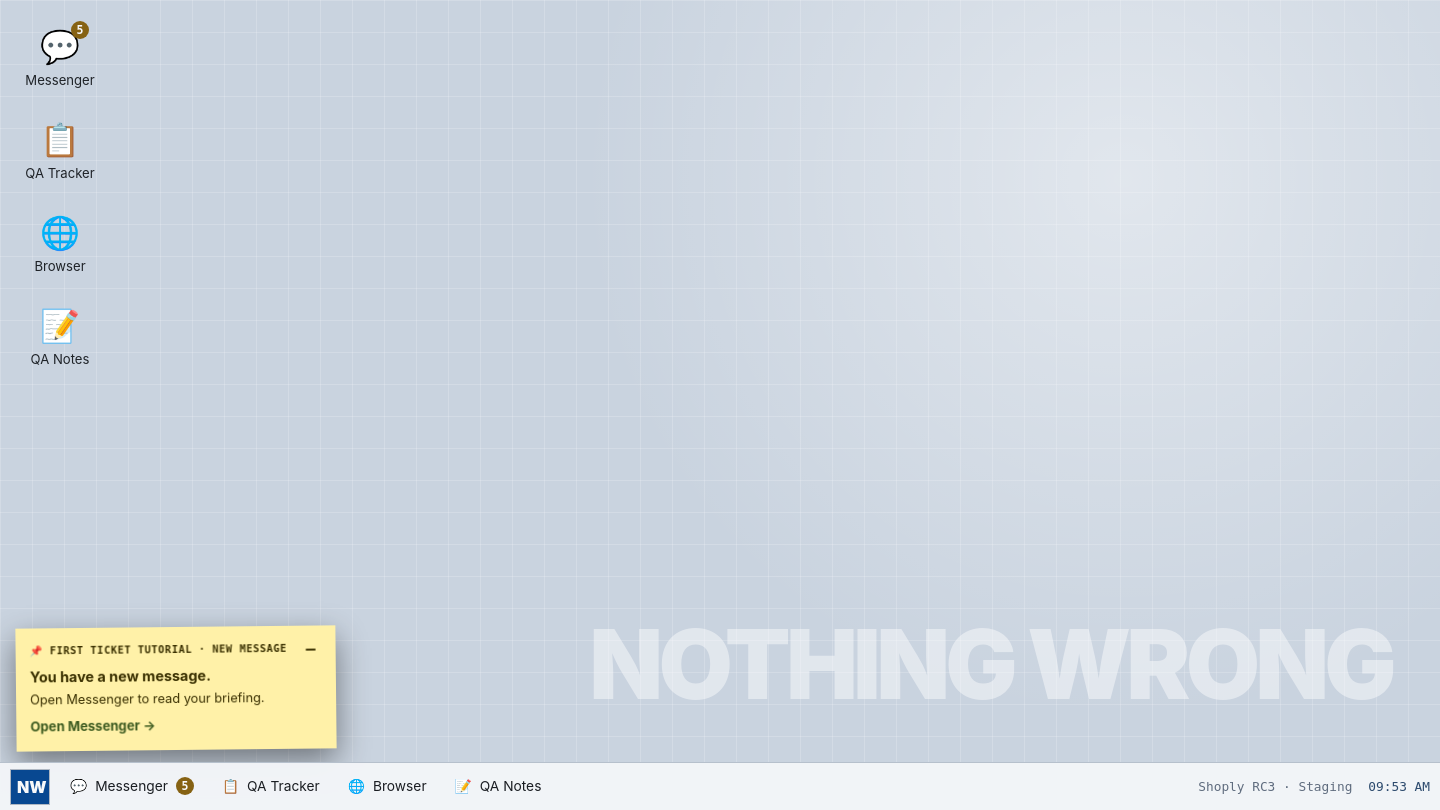
it: QA workstation desktop › opens typed addresses, intranet docs, and unknown hosts in the Browser
Click the 1st button "🌐 Browser" at x=60, y=244, box [16,202,104,285]
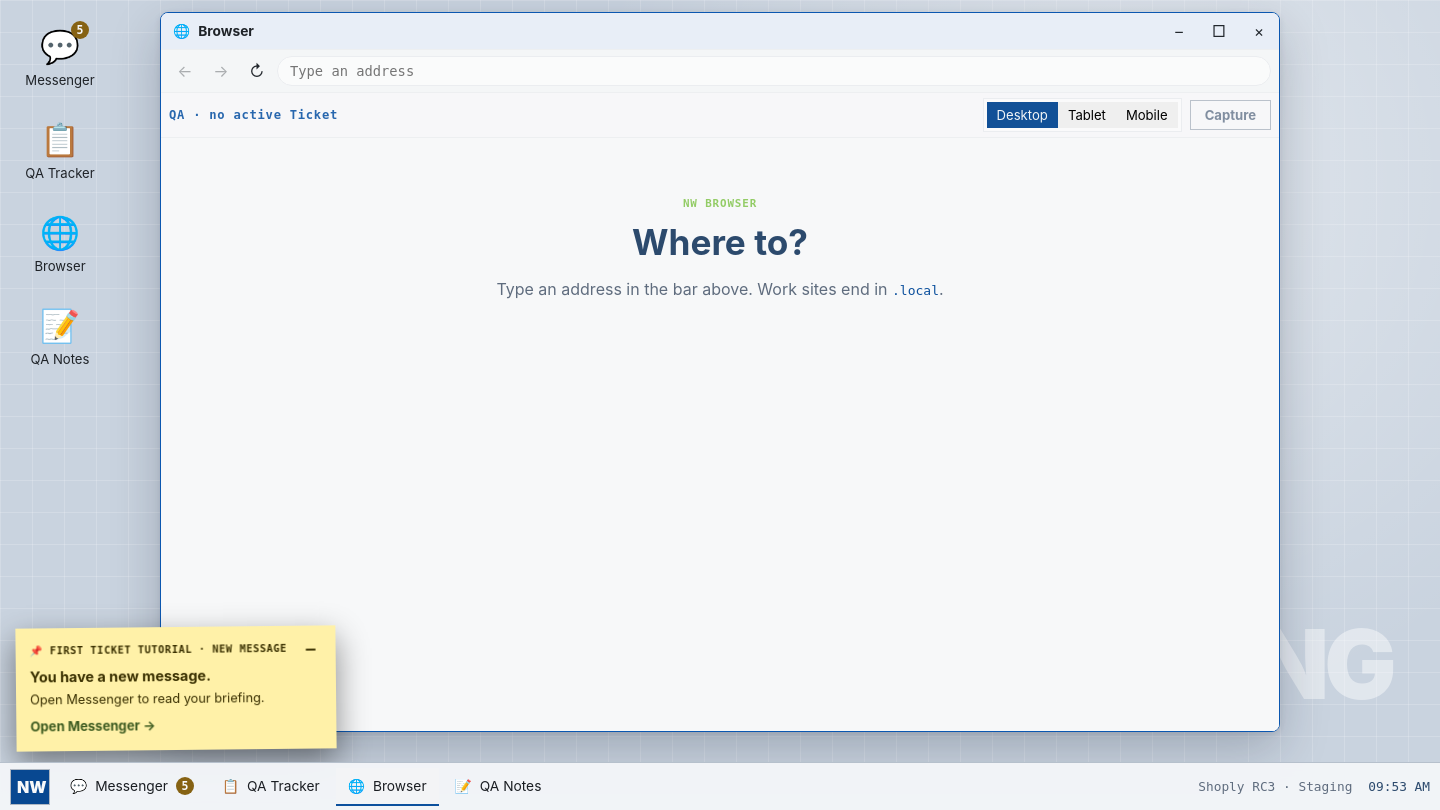
Expected: the heading "Where to?" is shown, [632,221,808,263]
Expected: the button "Capture" is disabled, [1190,100,1271,130]
Type "shoply.com" into the field labelled "address" at x=774, y=71, box [277,56,1271,86]
Submit the form from the field named "address", box [277,56,1271,86]
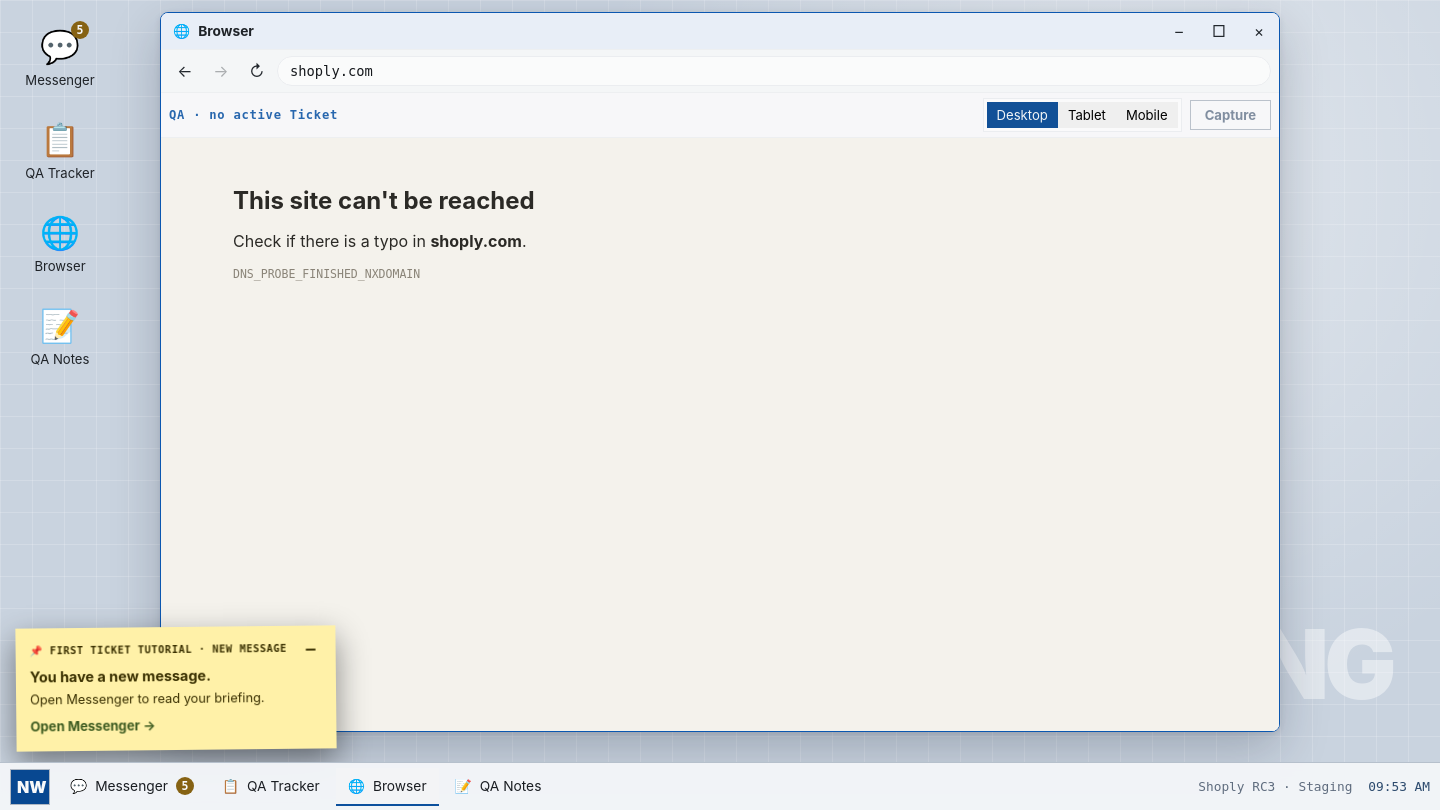
Expected: the heading "This site can't be reached" is shown, [233,186,535,215]
Replace the text in the field named "address" with "docs.nothingwrong.local/checkout-interaction-specification" at x=774, y=71, box [277,56,1271,86]
Submit the form from the field named "address", box [277,56,1271,86]
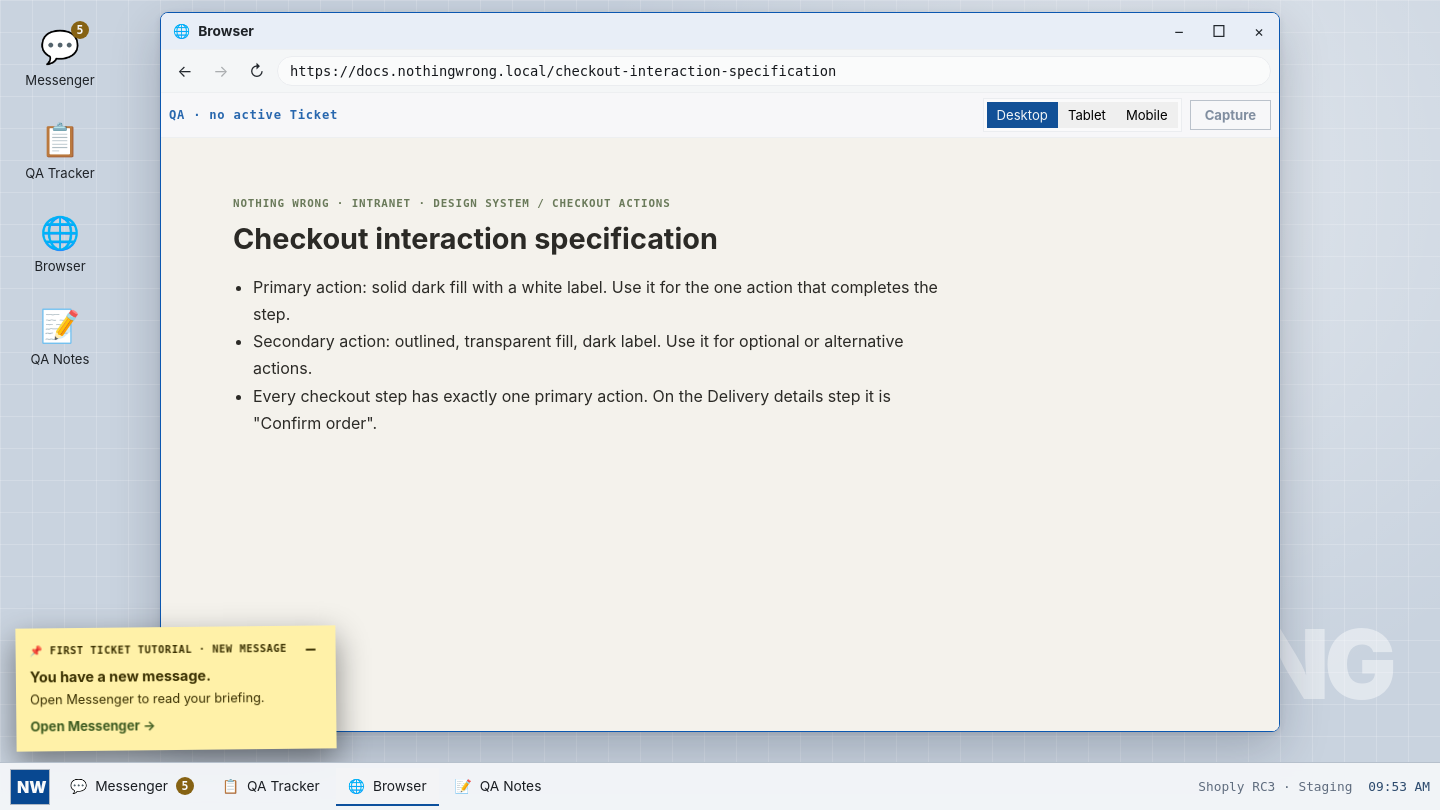
Expected: the list item "Primary action: solid dark fill" is shown, [253,277,938,324]
Replace the text in the field named "address" with "shoply.local" at x=774, y=71, box [277,56,1271,86]
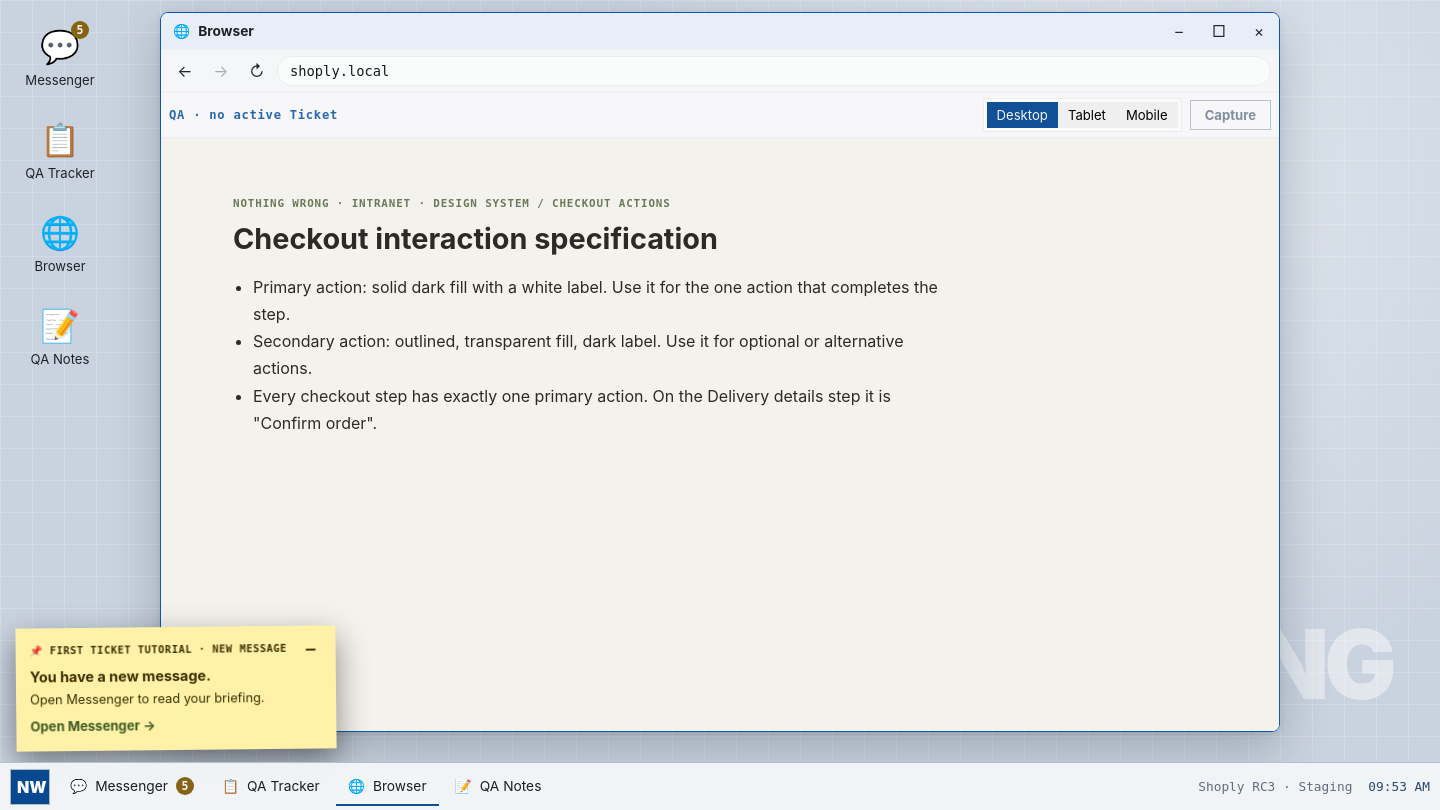
Submit the form from the field named "address", box [277,56,1271,86]
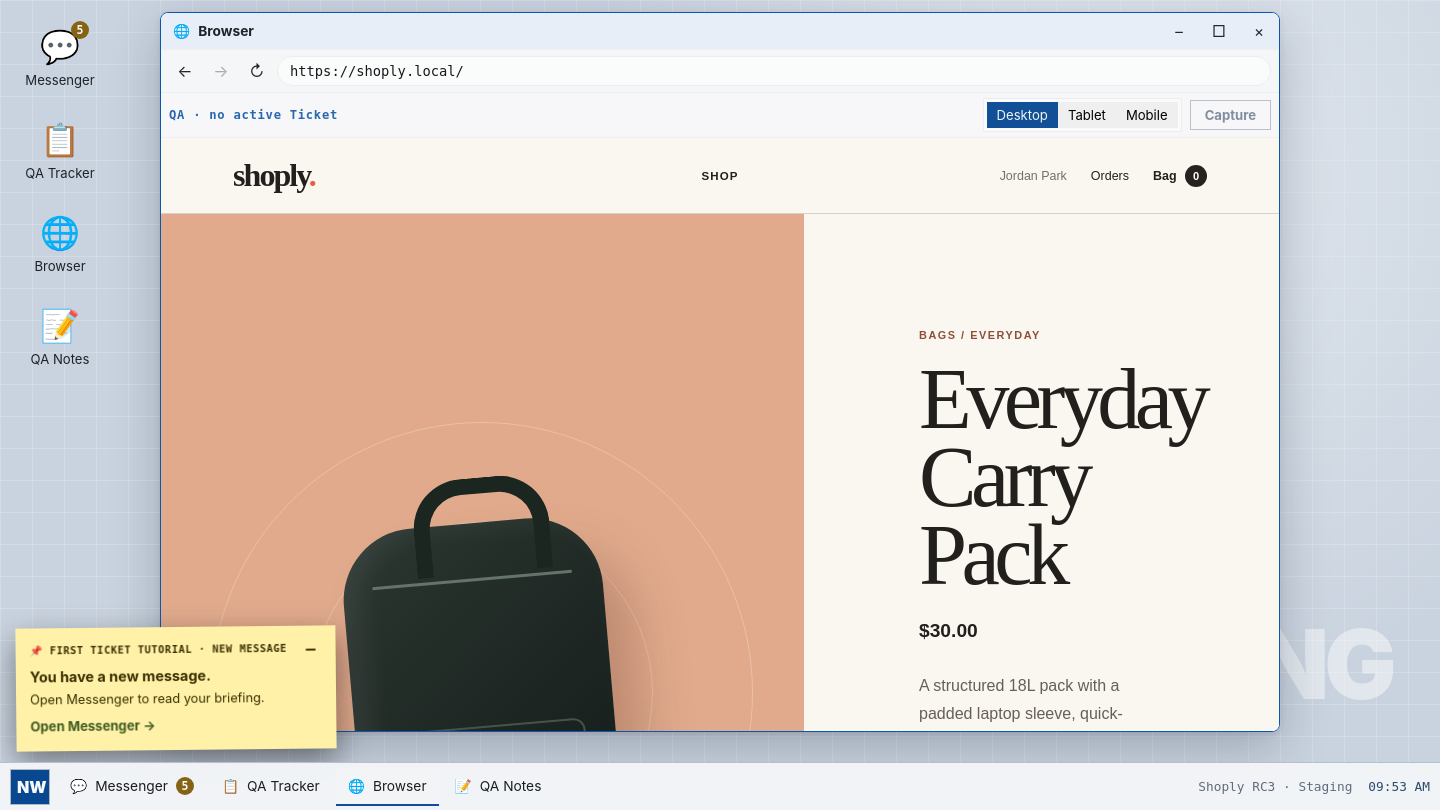
Expected: the heading "Everyday Carry Pack" is shown, [919,361,1205,594]
Expected: the field named "address" holds "https://shoply.local/", [277,56,1271,86]
Click the button named "Go back" at x=185, y=71, box [169,56,201,86]
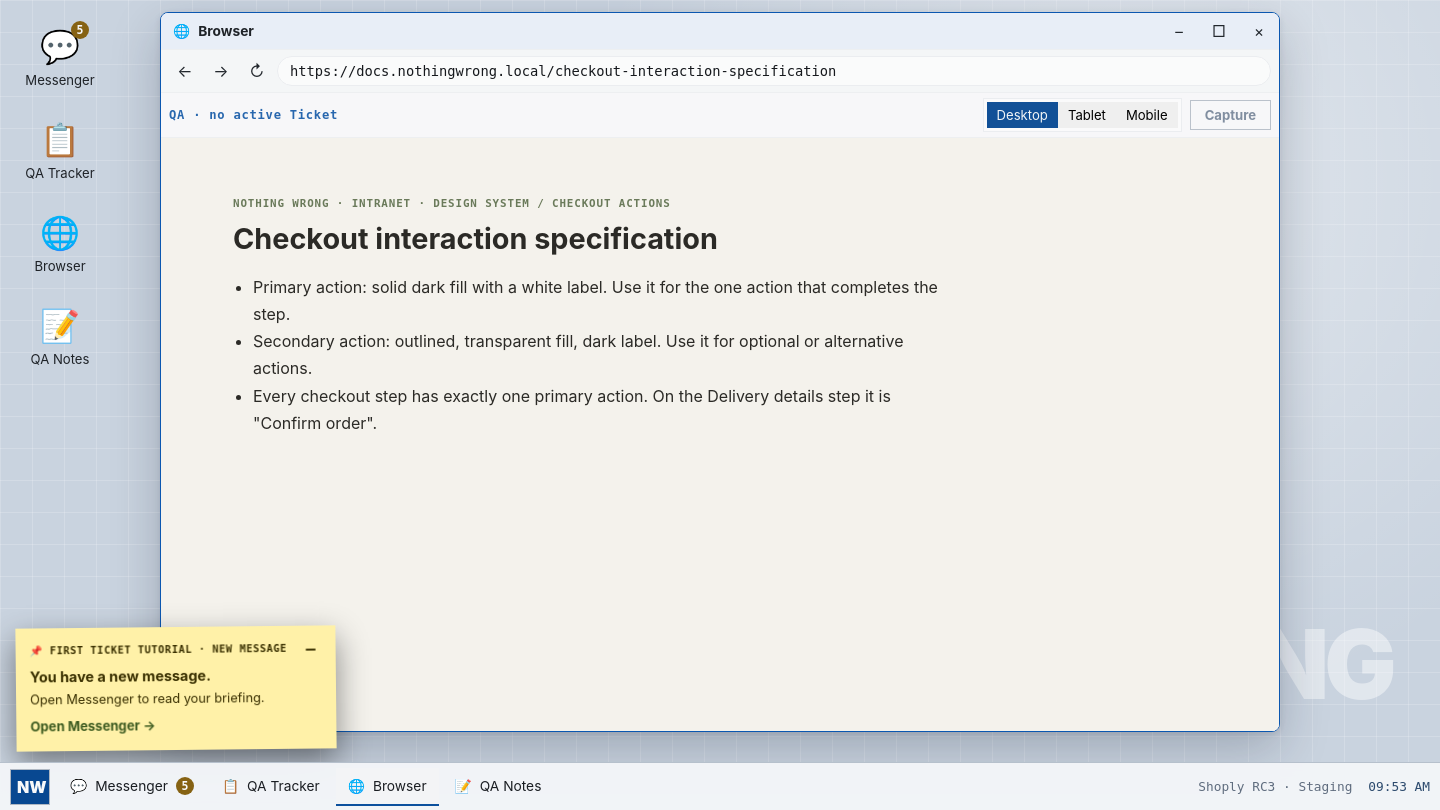
Expected: the list item "Primary action: solid dark fill" is shown, [253,277,938,324]
